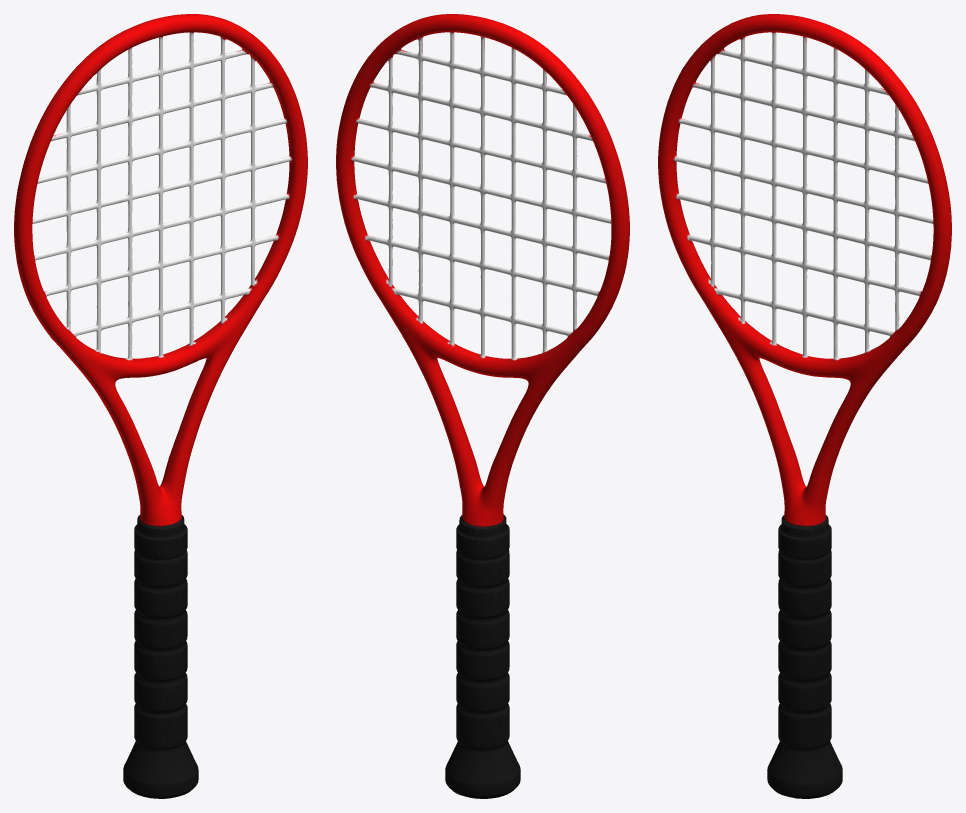
The model's file is raket_tenis.glb.
The picture shows the model from 3 angles, left to right: view 1: azimuth 30°, elevation 25°; view 2: azimuth 150°, elevation 25°; view 3: azimuth 330°, elevation 25°; orthographic projection.
Size of the model in its own units: 0.7525 by 1.9 by 0.1689.
1 material, 1 textured.
